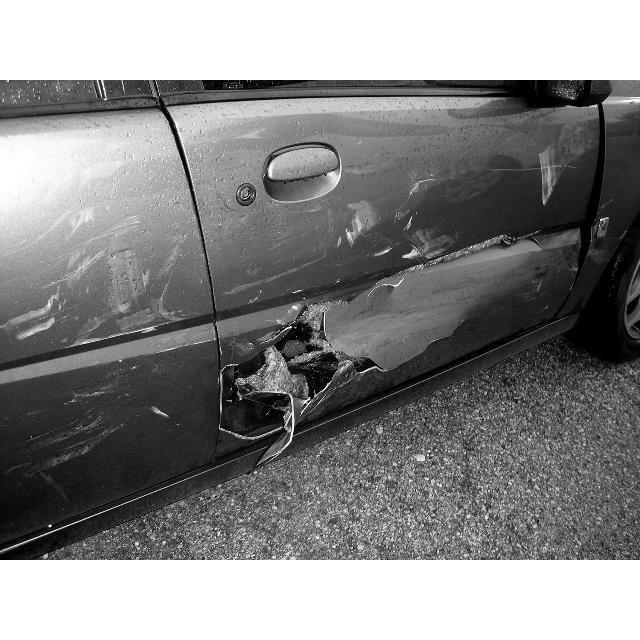doorouter-dent: (225, 98, 541, 461), (0, 149, 196, 490)
